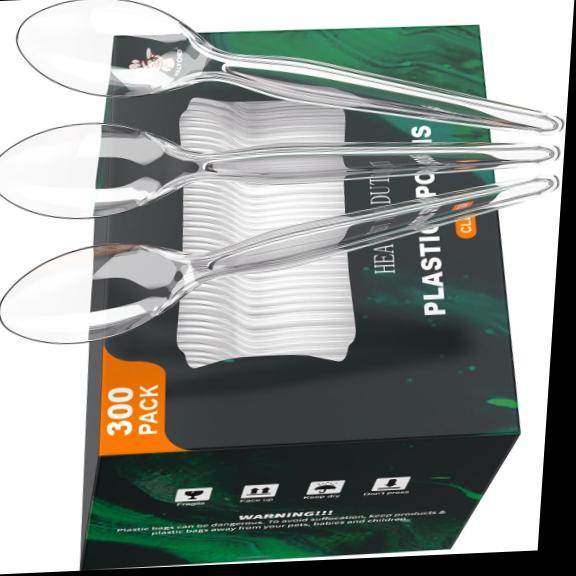Plastik: (0, 175, 557, 342), (17, 0, 562, 133), (0, 123, 558, 217)
